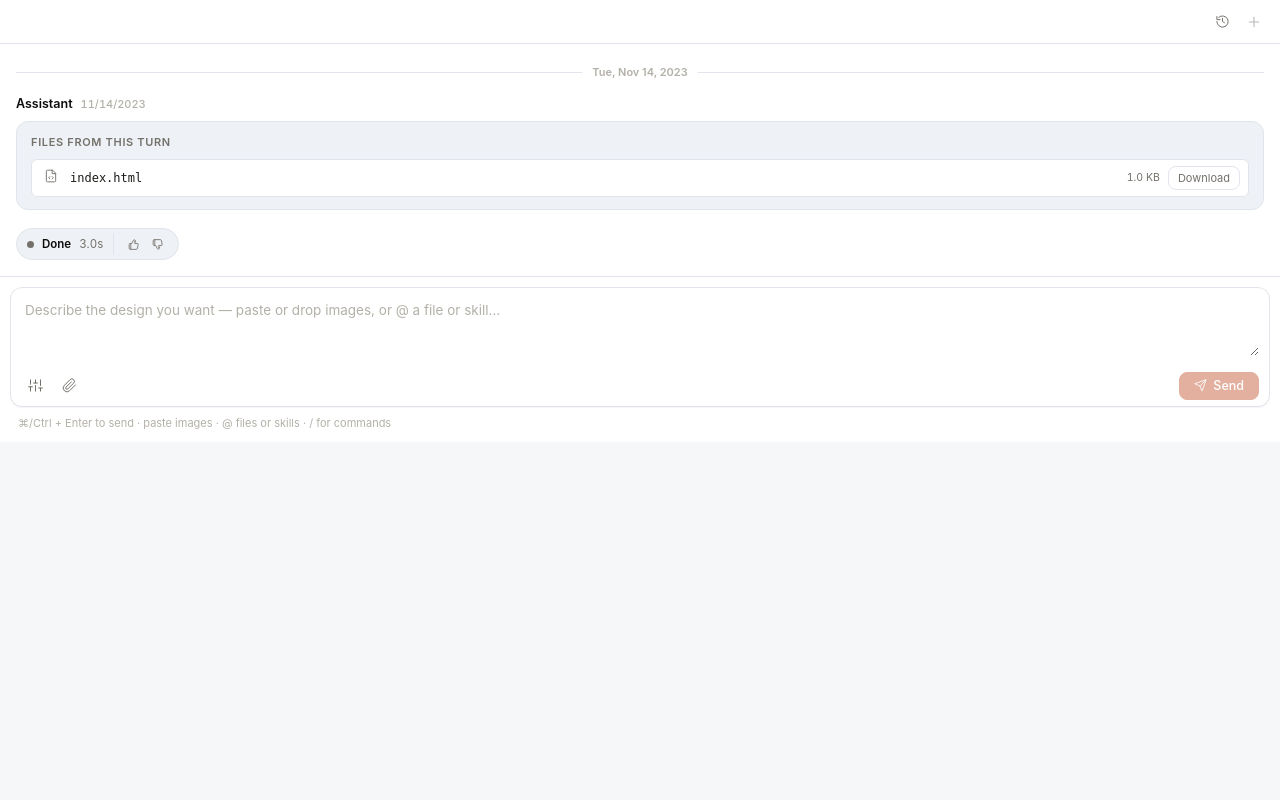
Test: chat assistant feedback › uses a sad marker for negative feedback reasons
The image size is (1280, 800).
Click the button named "Not helpful" at (157, 244), box [146, 233, 168, 255]
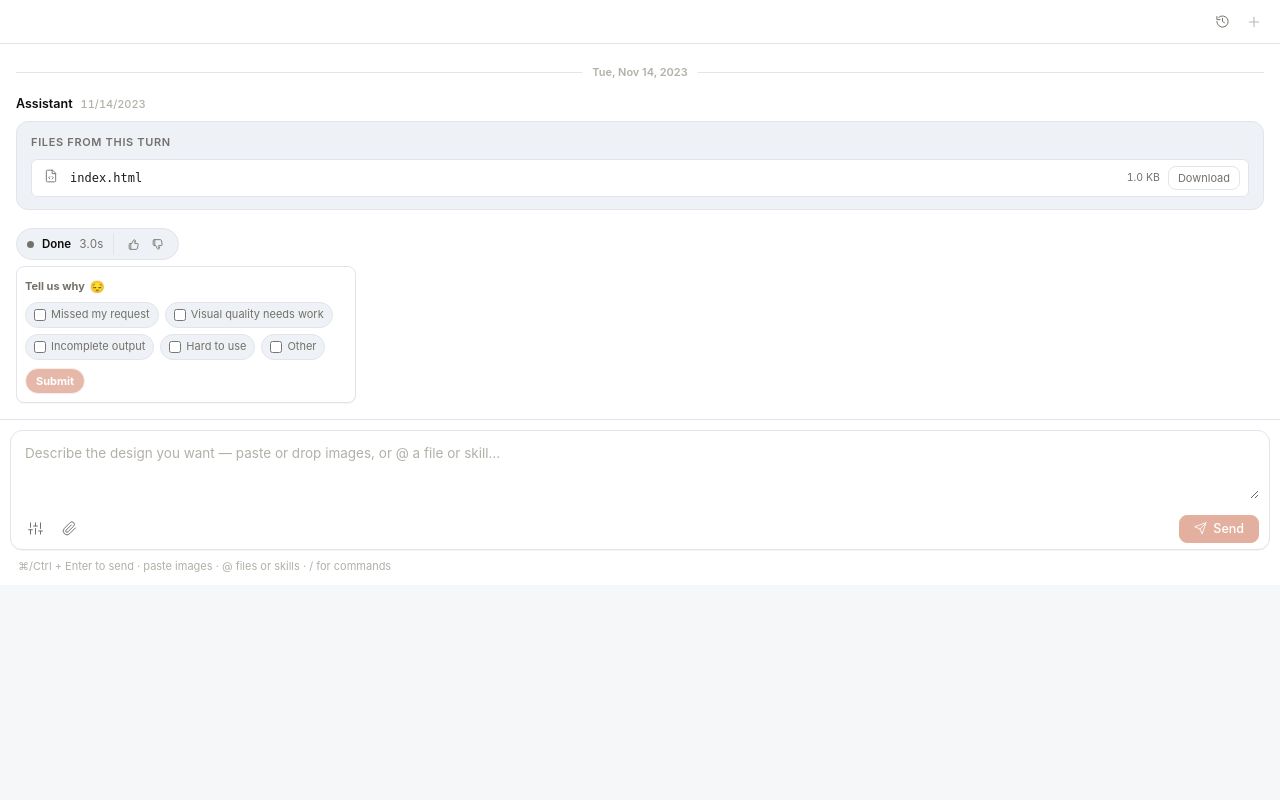
Expected: the text "Tell us why" is shown, [25, 278, 85, 295]
Expected: the text "😔" is shown, [90, 280, 105, 292]
